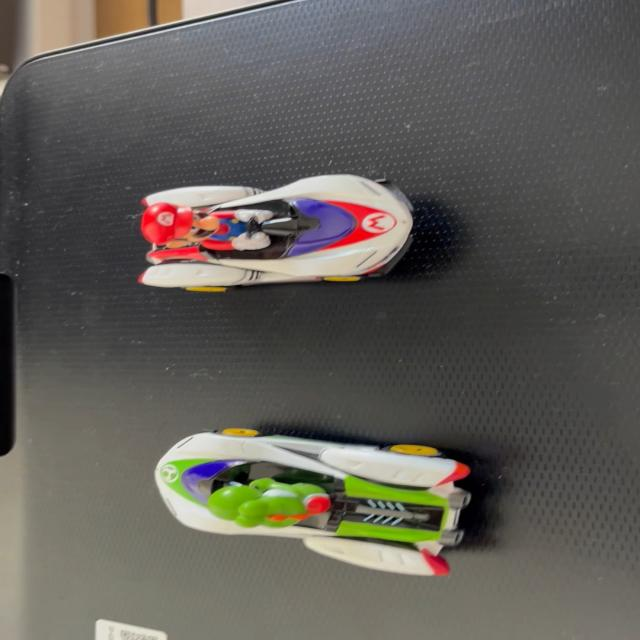mario: (112, 167, 438, 307)
yoshi: (120, 406, 502, 593)
